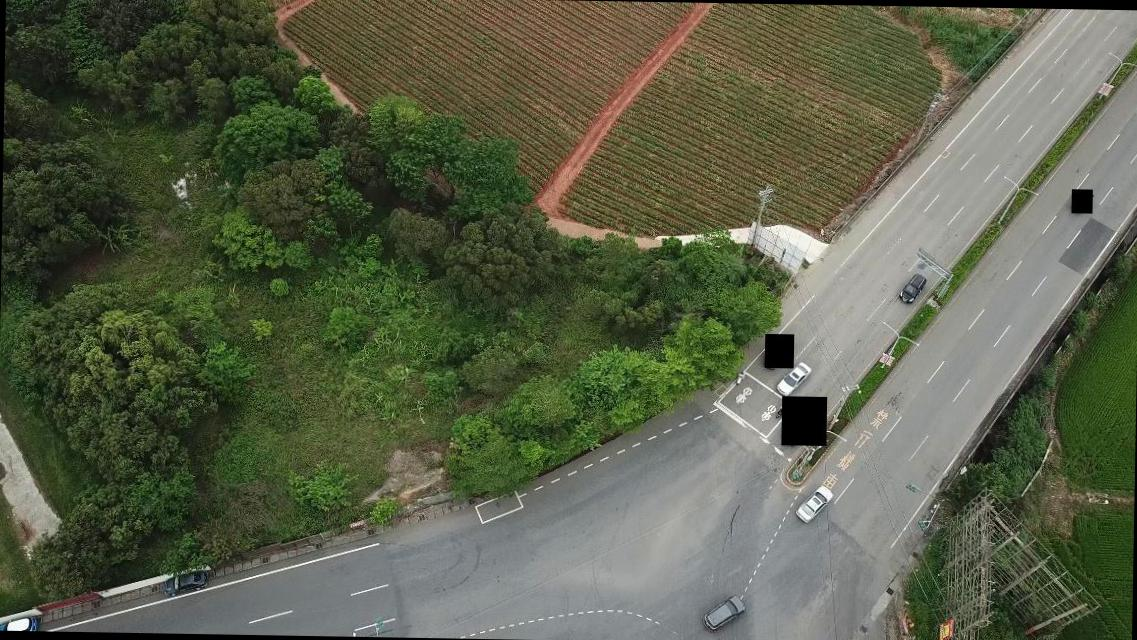vehicle: (702, 595, 746, 631), (794, 485, 834, 523), (775, 359, 810, 396), (164, 569, 208, 595), (899, 273, 926, 305), (0, 612, 37, 632)
